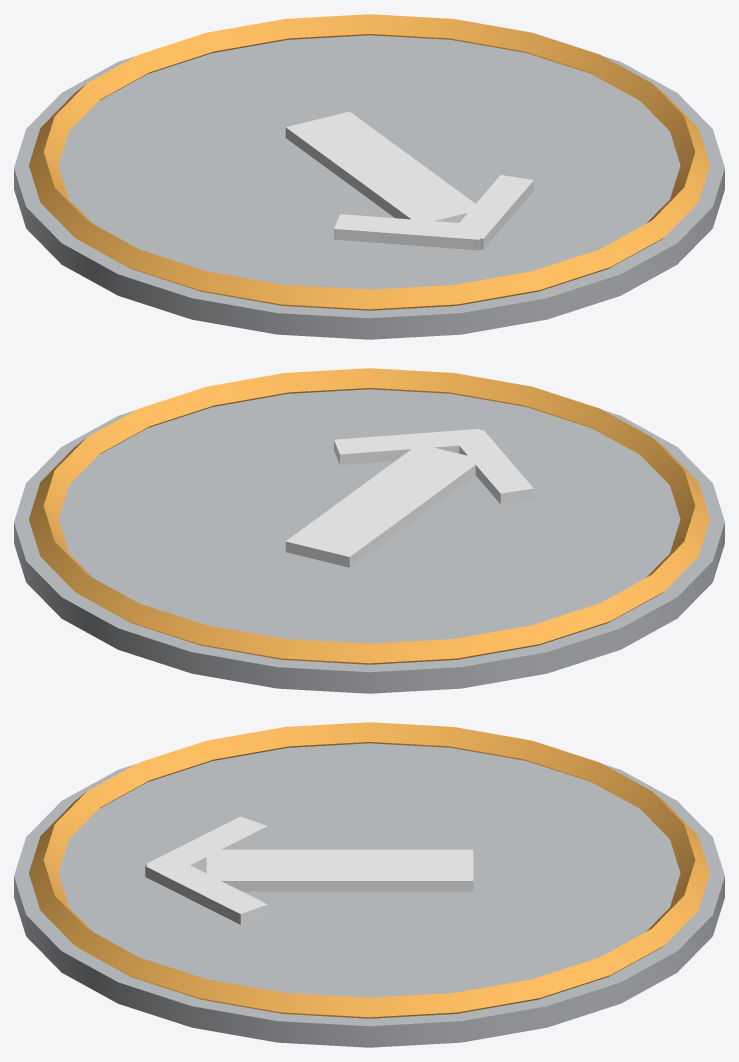
Rendered from sb_spawn_marker.glb.
3 views of the same model, one above another, from view 1: azimuth 30°, elevation 25°; view 2: azimuth 150°, elevation 25°; view 3: azimuth 270°, elevation 25° (orthographic).
Visible parts, largest first — view 1: sb_spawn_marker; view 2: sb_spawn_marker; view 3: sb_spawn_marker.
Boxes of the visible parts, x1,y1,x2,y2 form: sb_spawn_marker: [14, 14, 724, 339]; sb_spawn_marker: [14, 368, 724, 693]; sb_spawn_marker: [14, 722, 724, 1047].
Size of the model in its own units: 2.4 by 0.14 by 2.4.
